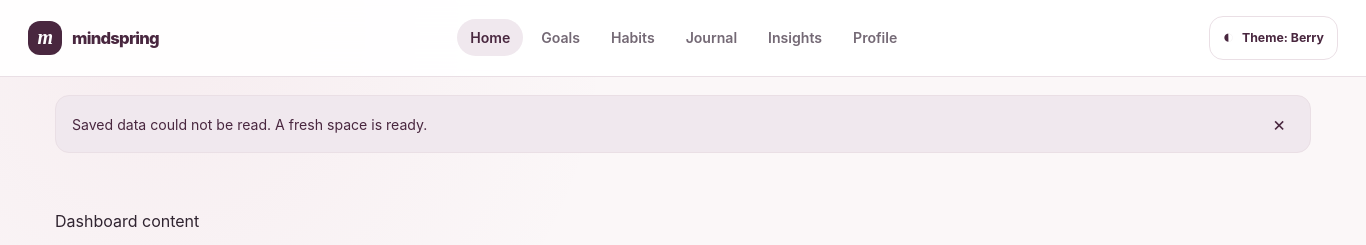
Test: AppShell navigation › shows and dismisses a saved-data recovery notice
Expected: the message shows "Saved data could not be read. A fresh space is ready.", [72, 116, 427, 132]
What coordinates should you click on to do the following:
click the button named "Dismiss notice"
I would click on:
 (1279, 124)
Its box is [1264, 109, 1294, 139].
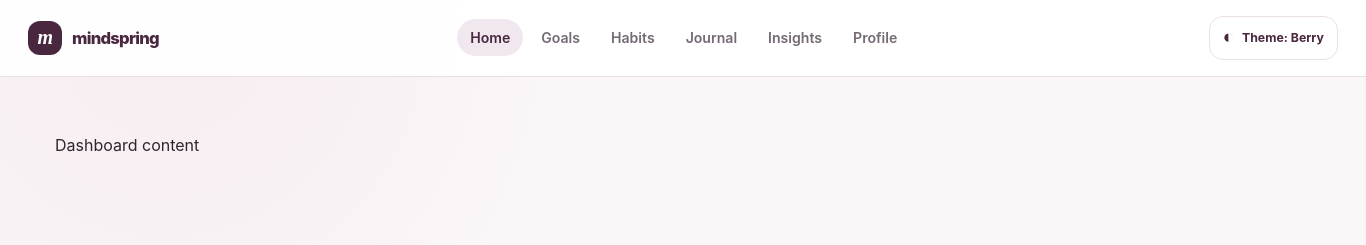
Result: the message "Saved data could not be read. A fresh space is ready. ×" is gone
